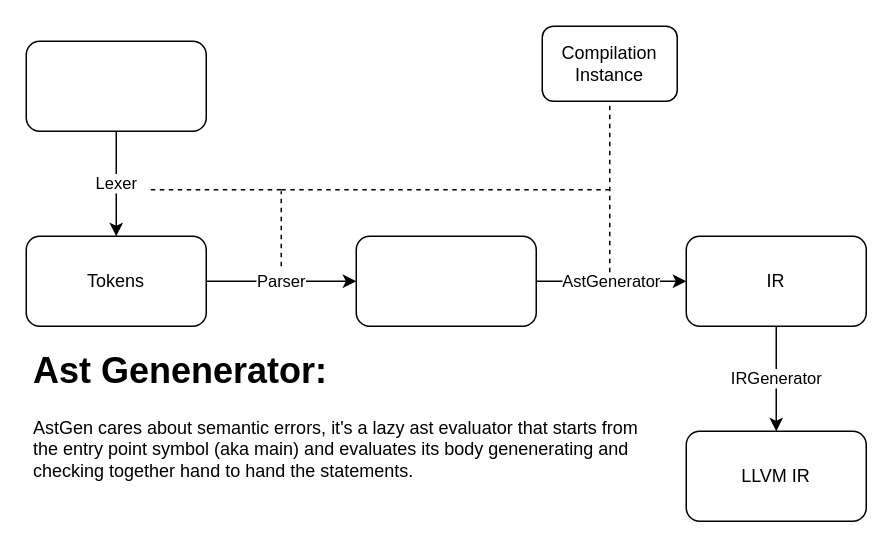
This 893x548 diagram has some shape labels left out. The centre of each missing label's shape, as x and y in pixels:
"Ast" belongs at point 445,280.
"Source" belongs at point 115,85.
